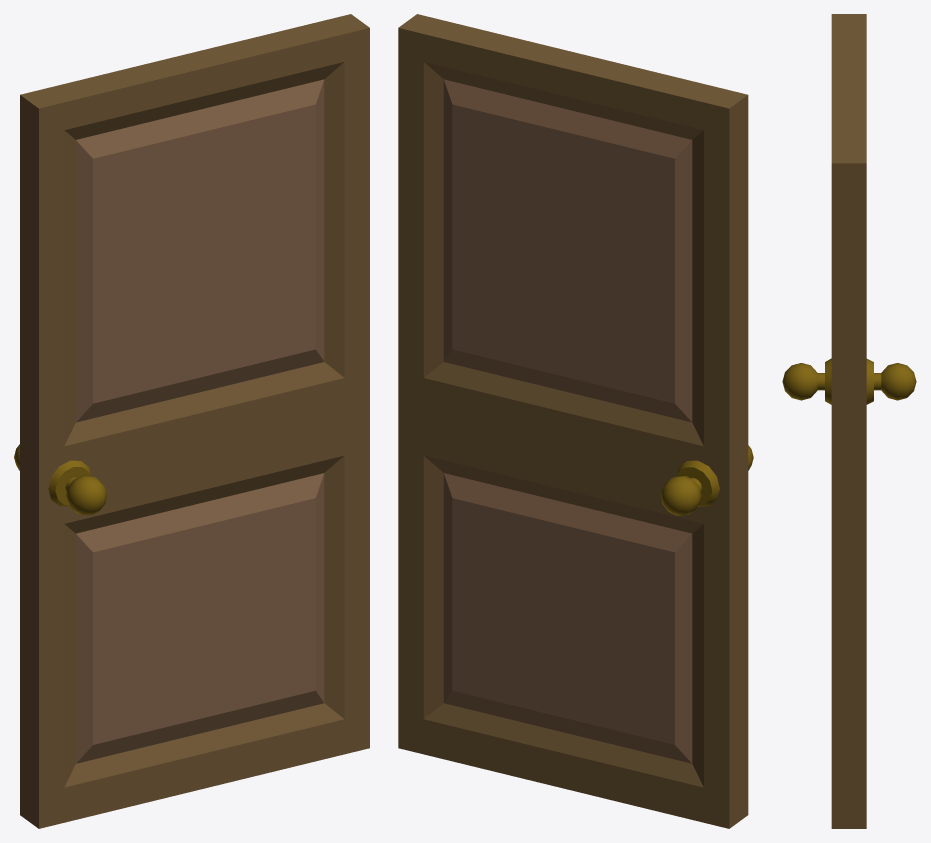
Rendered from ClassicDoor.FBX.
The picture shows the model from 3 angles, left to right: view 1: azimuth 30°, elevation 25°; view 2: azimuth 150°, elevation 25°; view 3: azimuth 270°, elevation 25°; orthographic projection. The views are drawn at different scales.
Parts seen in each view (by area): view 1: ClassicDoor, Handle; view 2: ClassicDoor, Handle; view 3: ClassicDoor, Handle.
Part boxes in pixels (left/top/right/bottom): ClassicDoor: left=20, top=14, right=369, bottom=828; Handle: left=14, top=444, right=106, bottom=515; ClassicDoor: left=398, top=14, right=748, bottom=828; Handle: left=660, top=445, right=753, bottom=515; ClassicDoor: left=825, top=14, right=873, bottom=828; Handle: left=782, top=363, right=916, bottom=400.
Bounding box in the file's own units: 101 × 210 × 38.35.
